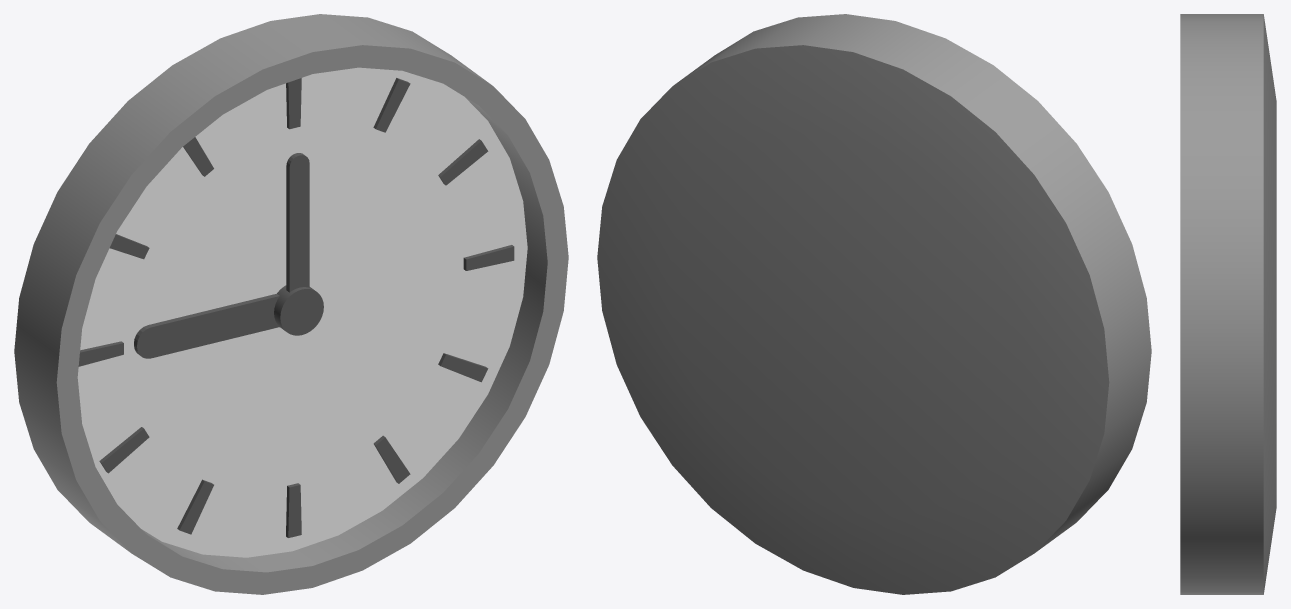
The model's file is nine_oclock.glb.
3 views of the same model, side by side, from view 1: azimuth 30°, elevation 25°; view 2: azimuth 150°, elevation 25°; view 3: azimuth 270°, elevation 25° (orthographic).
Visible parts, largest first — view 1: Circle.2483; view 2: Circle.2483; view 3: Circle.2483.
Part boxes in pixels (x1,y1,x2,y2): Circle.2483: [14, 14, 568, 594]; Circle.2483: [597, 14, 1151, 594]; Circle.2483: [1180, 14, 1276, 594].
Size of the model in its own units: 2.33 by 2.33 by 0.387.
1 material, 1 textured.
